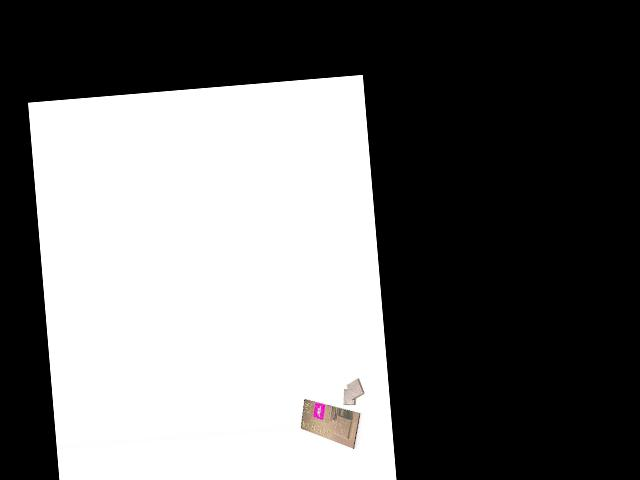chocolate: (297, 393, 364, 453)
